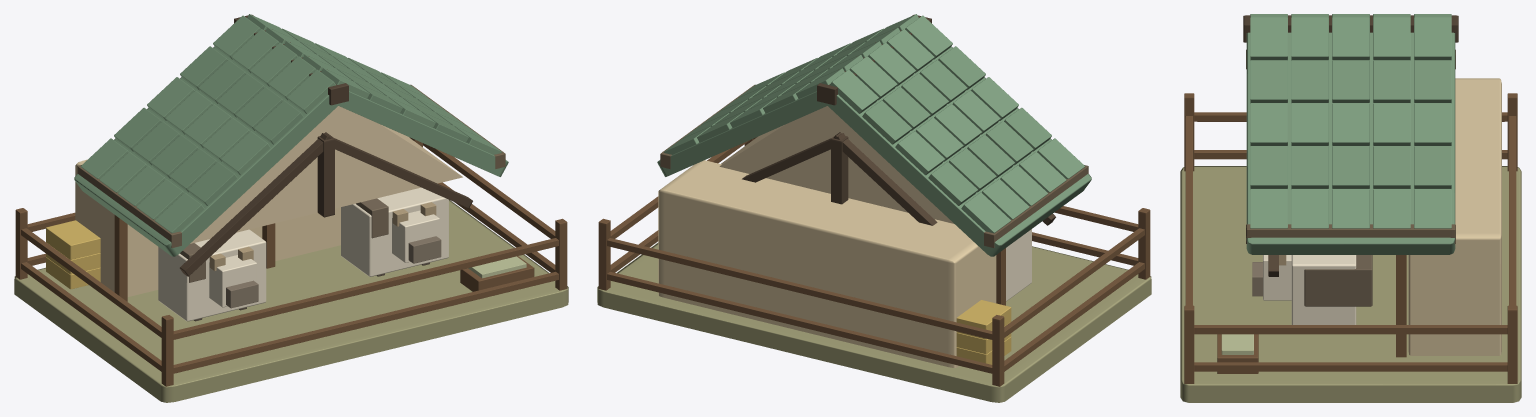
File: cowshed-1.glb
3 views of the same model, side by side, from view 1: azimuth 30°, elevation 25°; view 2: azimuth 150°, elevation 25°; view 3: azimuth 270°, elevation 25° (orthographic). The views are drawn at different scales.
Visible parts, largest first — view 1: cowshed-1-0, cow-1, cow-0; view 2: cowshed-1-0, cow-0; view 3: cowshed-1-0, cow-1.
Boxes of the visible parts, x1,y1,x2,y2 form: cowshed-1-0: (14, 14, 568, 402); cow-1: (341, 187, 448, 276); cow-0: (158, 229, 266, 321); cowshed-1-0: (597, 14, 1151, 402); cow-0: (1006, 229, 1031, 301); cowshed-1-0: (1180, 14, 1521, 402); cow-1: (1252, 255, 1372, 324).
Bounding box in the file's own units: 2.9 × 1.71 × 1.9.
